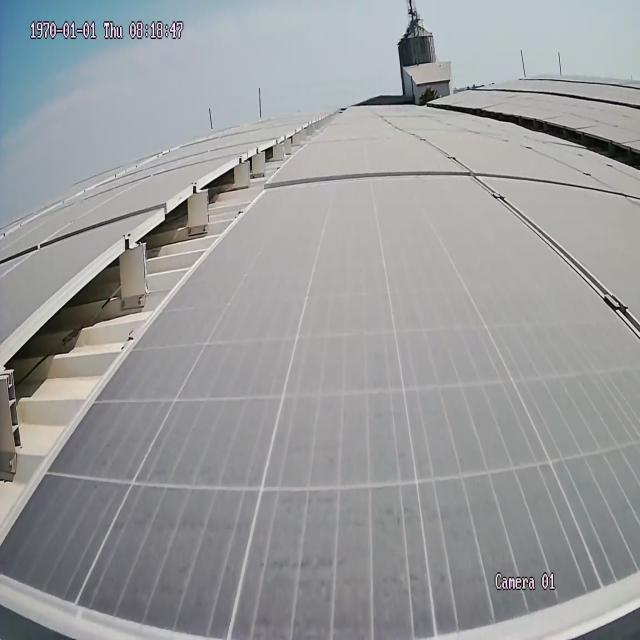interior panel: (273, 168, 637, 338)
outher panel: (1, 118, 331, 532), (474, 107, 640, 170)
